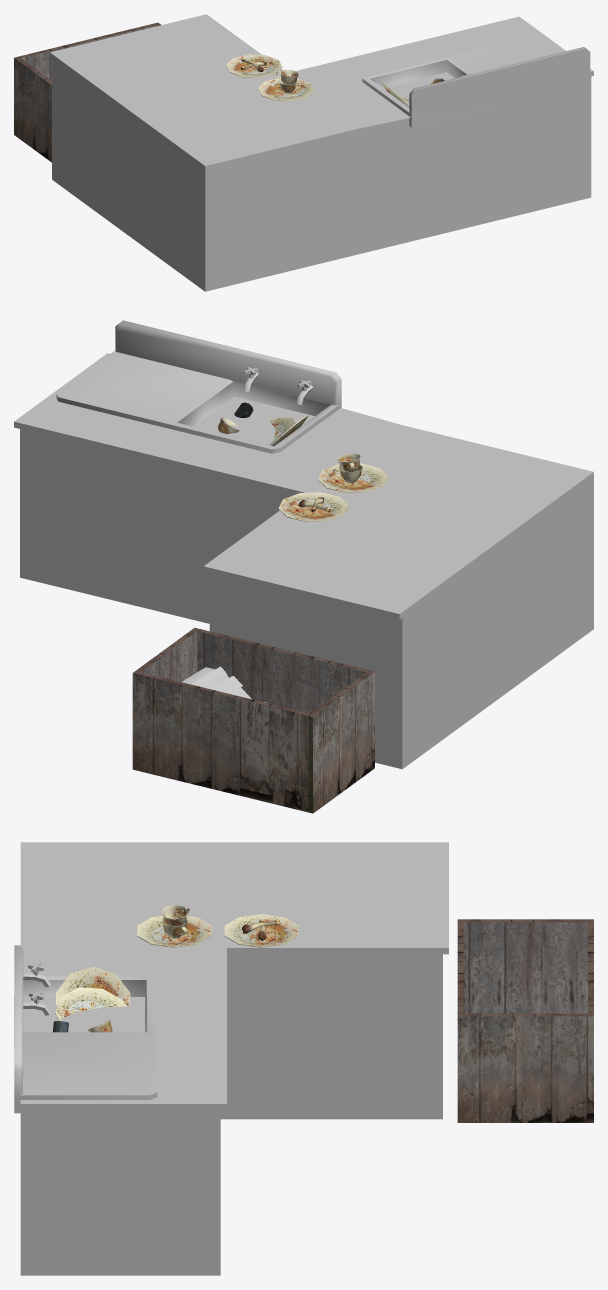
The model's file is Lavaplatos.FBX.
3 views of the same model, one above another, from view 1: azimuth 30°, elevation 25°; view 2: azimuth 150°, elevation 25°; view 3: azimuth 270°, elevation 25° (orthographic). The views are drawn at different scales.
Parts seen in each view (by area): view 1: Lavaplatos, Box004, Cylinder030, Cylinder002; view 2: Lavaplatos, Box004, Cylinder030, Cylinder002; view 3: Lavaplatos, Box004, Cylinder030, Cylinder002, Cylinder003, Cylinder004.
Part boxes in pixels (left/top/right/bottom): Lavaplatos: left=50, top=14, right=593, bottom=291; Box004: left=14, top=22, right=161, bottom=162; Cylinder030: left=226, top=54, right=282, bottom=78; Cylinder002: left=258, top=78, right=314, bottom=101; Lavaplatos: left=14, top=320, right=593, bottom=769; Box004: left=132, top=627, right=374, bottom=813; Cylinder030: left=278, top=492, right=348, bottom=521; Cylinder002: left=318, top=463, right=388, bottom=492; Lavaplatos: left=14, top=842, right=448, bottom=1275; Box004: left=457, top=919, right=593, bottom=1122; Cylinder030: left=224, top=914, right=298, bottom=947; Cylinder002: left=137, top=915, right=211, bottom=947; Cylinder003: left=56, top=966, right=130, bottom=1005; Cylinder004: left=55, top=987, right=126, bottom=1020.
Size of the model in its own units: 91.31 by 35.01 by 85.55.
